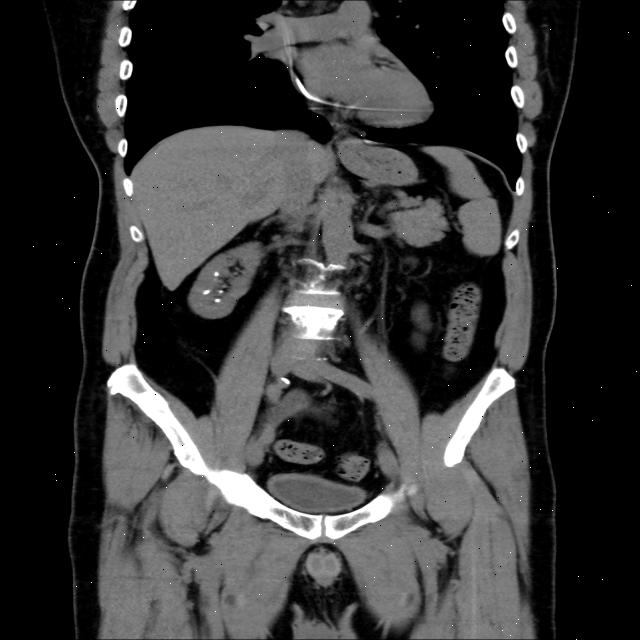kidneystone: (207, 294, 222, 304), (214, 270, 220, 277), (204, 290, 210, 294), (220, 291, 225, 295)
